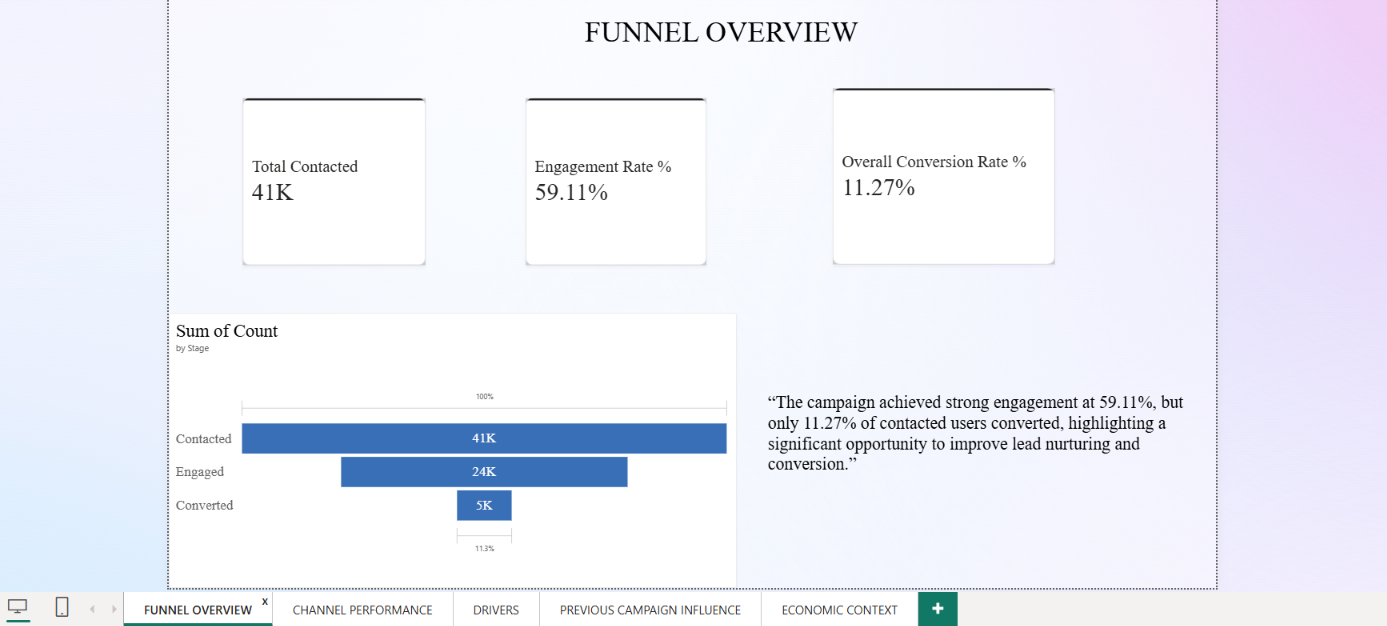

The page's visual inventory and layout, read from the dashboard file:
{"tool":"powerbi","page":{"name":"FUNNEL OVERVIEW","canvas":[1920,1080],"ordinal":0},"visuals":[{"type":"funnel","fields":{"Category":["funnel_summary.Stage"],"Y":["Sum(funnel_summary.Count)"]},"box":[0,576.3,1041.5,504.3],"z":0},{"type":"cardVisual","fields":{"Data":["channel_summary.Total Contacted"]},"box":[135.8,181.1,335.5,306.7],"z":1},{"type":"cardVisual","fields":{"Data":["channel_summary.Engagement Rate %"]},"box":[654.5,181.1,331.4,306.7],"z":2},{"type":"cardVisual","fields":{"Data":["channel_summary.Overall Conversion Rate %"]},"box":[1218.5,162.6,407.5,323.2],"z":3},{"type":"textbox","box":[1099.1,720.4,768,246],"z":4},{"type":"textbox","box":[763.6,28.8,555.7,203.8],"z":5}]}

Visuals, with their boxes on the page's 1920x1080 design canvas (x1, y1, x2, y2). These are canvas units, not pixel positions in the 1387x626 screenshot, which may show the page scaled, cropped or inside an application window:
funnel - funnel_summary.Stage x Sum(funnel_summary.Count): pyautogui.locateOnScreen(0, 576, 1042, 1081)
cardVisual - channel_summary.Total Contacted: pyautogui.locateOnScreen(136, 181, 471, 488)
cardVisual - channel_summary.Engagement Rate %: pyautogui.locateOnScreen(654, 181, 986, 488)
cardVisual - channel_summary.Overall Conversion Rate %: pyautogui.locateOnScreen(1218, 163, 1626, 486)
textbox: pyautogui.locateOnScreen(1099, 720, 1867, 966)
textbox: pyautogui.locateOnScreen(764, 29, 1319, 233)
